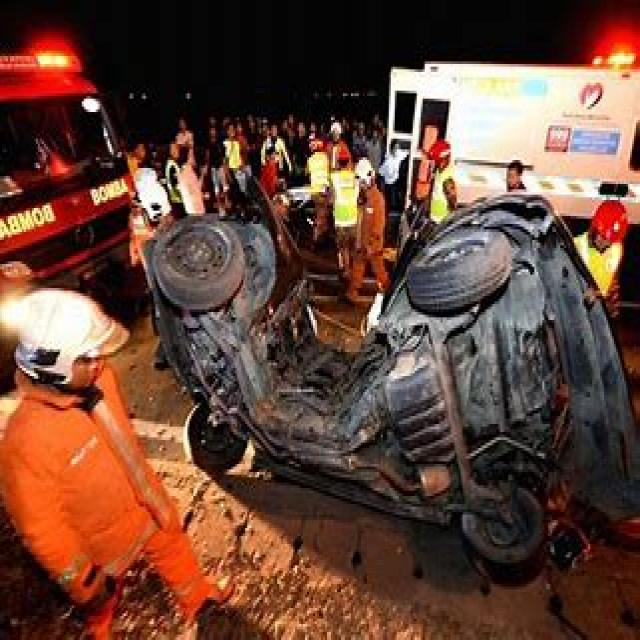Accident: (116, 88, 640, 568)
